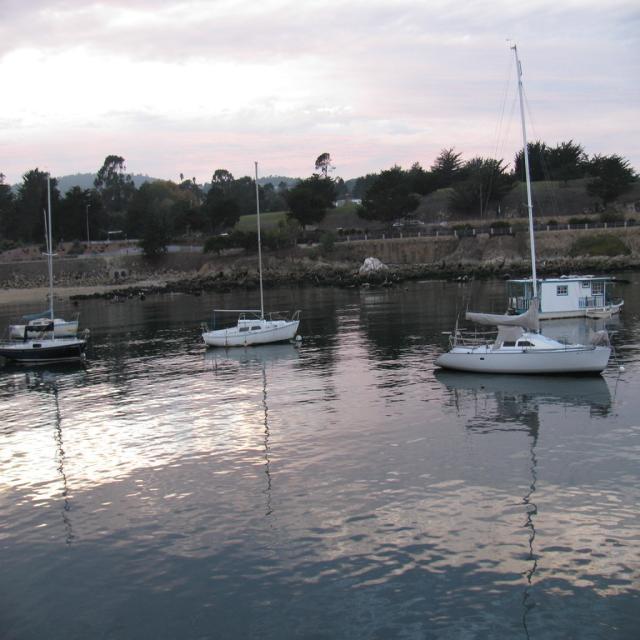Boat: (443, 65, 612, 395), (202, 160, 302, 348), (0, 170, 93, 362), (7, 208, 81, 334), (501, 269, 620, 317)
